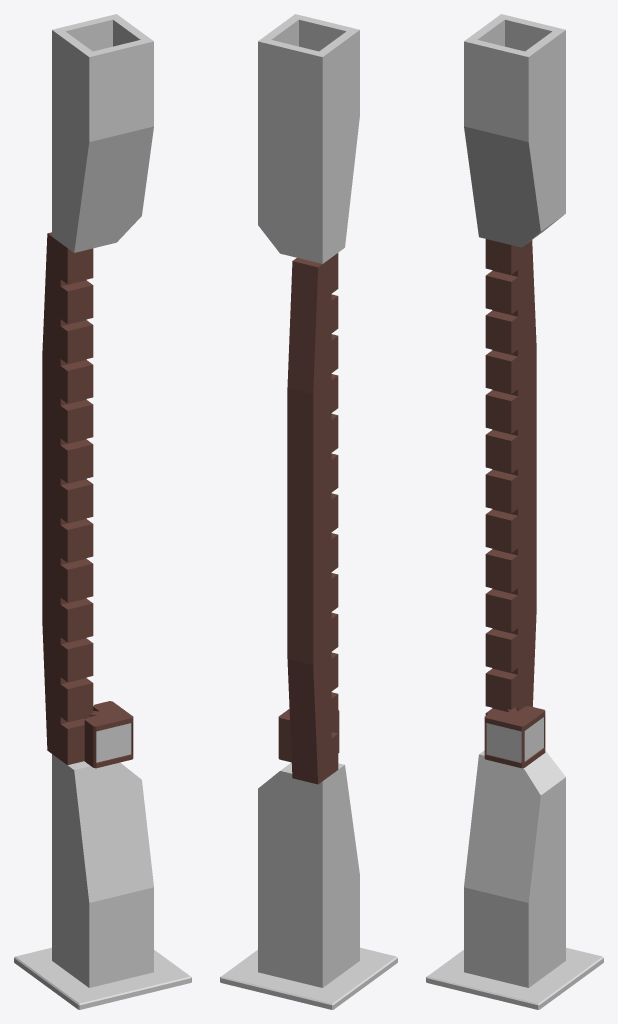
The picture shows the model from 3 angles, left to right: view 1: azimuth 30°, elevation 25°; view 2: azimuth 150°, elevation 25°; view 3: azimuth 330°, elevation 25°; orthographic projection.
Visible parts, largest first — view 1: 1x1B, Lift; view 2: 1x1B, Lift; view 3: 1x1B, Lift.
Part boxes in pixels (bbox=[...]): 1x1B: bbox=[14, 14, 191, 1009]; Lift: bbox=[83, 701, 133, 768]; 1x1B: bbox=[220, 14, 397, 1009]; Lift: bbox=[278, 709, 339, 762]; 1x1B: bbox=[426, 14, 603, 1009]; Lift: bbox=[484, 706, 545, 768].
Bounding box in the file's own units: 100 × 789 × 100.
